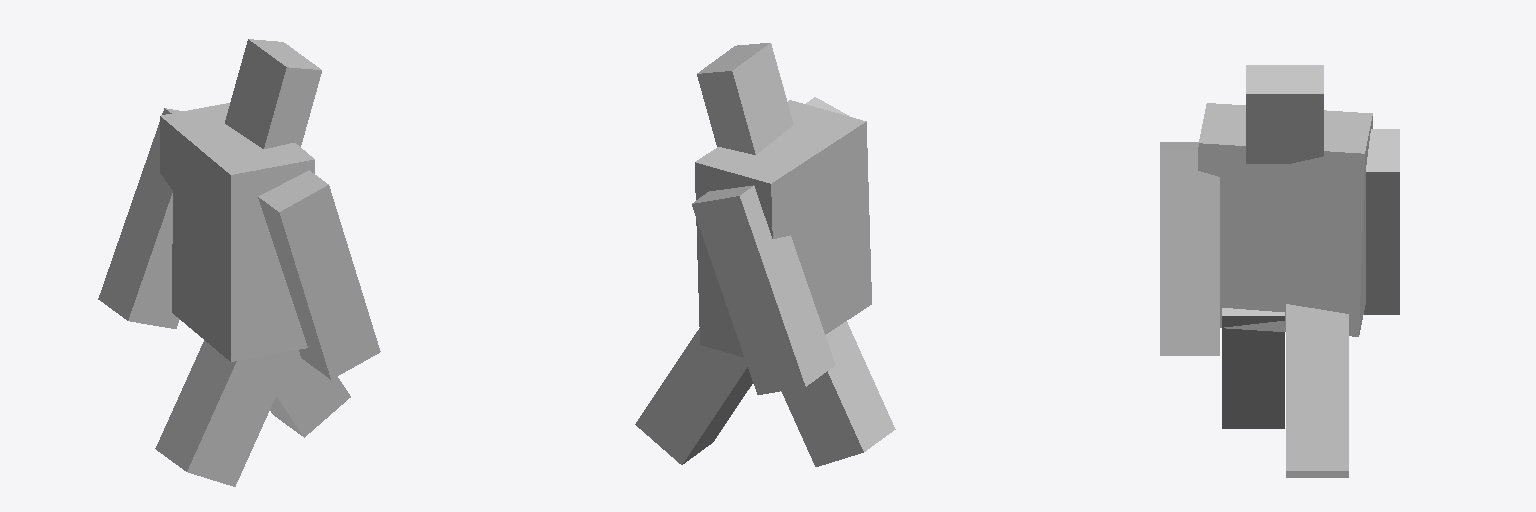
Rendered from walk_000009.obj.
3 views of the same model, side by side, from view 1: azimuth 30°, elevation 25°; view 2: azimuth 150°, elevation 25°; view 3: azimuth 270°, elevation 25° (orthographic).
Visible parts, largest first — view 1: Cube, leg.002_Cube.006, leg.001_Cube.007, leg.003_Cube.002, Cube.001_Cube.003, leg_Cube.001; view 2: Cube, leg.003_Cube.002, leg.001_Cube.007, leg_Cube.001, Cube.001_Cube.003; view 3: Cube, leg.002_Cube.006, leg_Cube.001, leg.001_Cube.007, leg.003_Cube.002, Cube.001_Cube.003, Plane.002.
Part boxes in pixels (left/top/right/bottom): Cube: left=160, top=103, right=314, bottom=361; leg.002_Cube.006: left=258, top=170, right=380, bottom=379; leg.001_Cube.007: left=155, top=340, right=296, bottom=486; leg.003_Cube.002: left=98, top=108, right=181, bottom=328; Cube.001_Cube.003: left=225, top=39, right=321, bottom=148; leg_Cube.001: left=270, top=350, right=350, bottom=437; Cube: left=695, top=100, right=871, bottom=356; leg.003_Cube.002: left=692, top=185, right=834, bottom=394; leg.001_Cube.007: left=781, top=321, right=895, bottom=466; leg_Cube.001: left=635, top=328, right=752, bottom=464; Cube.001_Cube.003: left=697, top=43, right=793, bottom=154; Cube: left=1198, top=103, right=1372, bottom=336; leg.002_Cube.006: left=1160, top=142, right=1219, bottom=355; leg_Cube.001: left=1286, top=304, right=1348, bottom=477; leg.001_Cube.007: left=1222, top=308, right=1284, bottom=428; leg.003_Cube.002: left=1364, top=129, right=1399, bottom=314; Cube.001_Cube.003: left=1246, top=65, right=1323, bottom=163; Plane.002: left=1260, top=134, right=1309, bottom=157.
Size of the model in its own units: 3.28 by 6.3 by 3.47.